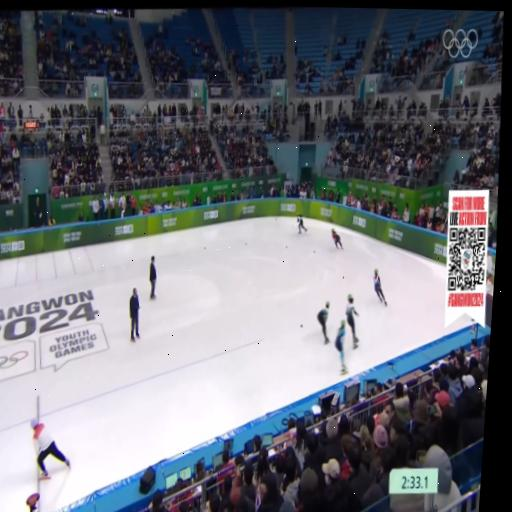Skater: (335, 320, 347, 374), (346, 295, 358, 348), (317, 302, 329, 343), (374, 270, 386, 305), (293, 211, 308, 235), (332, 229, 342, 249)
